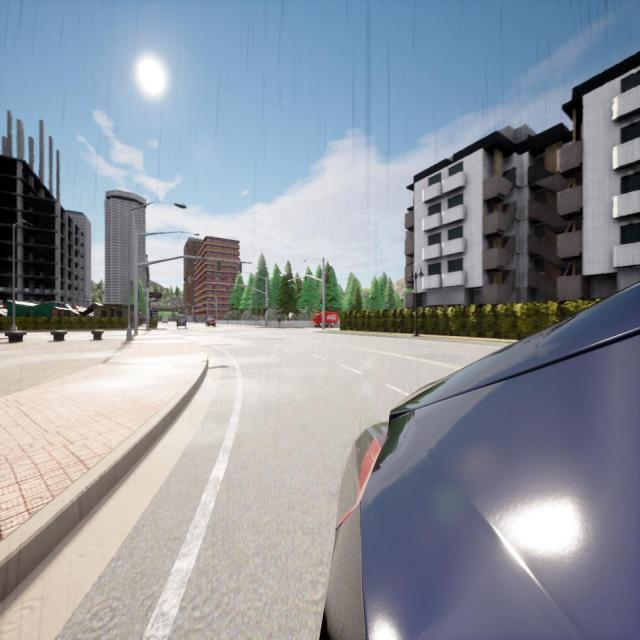Vehicle: (323, 284, 640, 638), (313, 312, 337, 326), (177, 314, 186, 328), (208, 319, 215, 327), (162, 317, 168, 323)
traffic_light: (190, 258, 193, 268), (239, 263, 242, 272), (320, 298, 322, 307), (213, 284, 216, 290), (218, 261, 220, 270), (242, 286, 245, 291), (289, 281, 291, 287), (296, 279, 298, 285), (265, 306, 268, 310), (304, 277, 306, 283), (227, 285, 229, 290)
